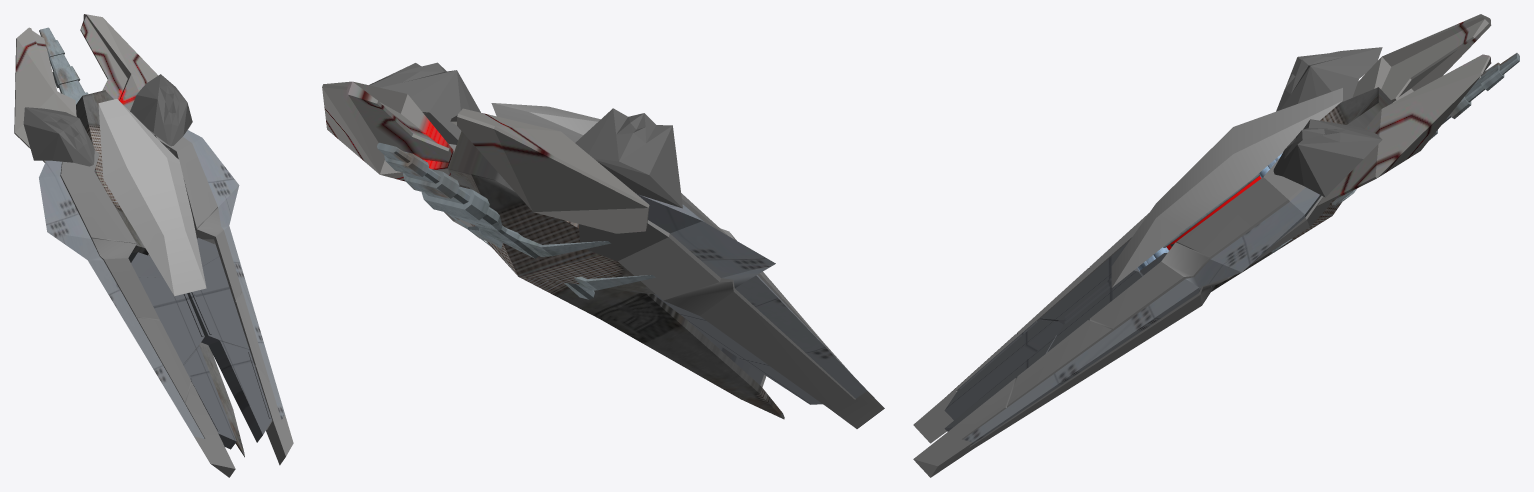
File: weakcl.fbx
3 renders of one model, left to right at view 1: azimuth 30°, elevation 25°; view 2: azimuth 150°, elevation 25°; view 3: azimuth 270°, elevation 25°, orthographic. The views are drawn at different scales.
Visible parts, largest first — view 1: polySurface3341, polySurface3333; view 2: polySurface3341, polySurface3333; view 3: polySurface3341, polySurface3333.
Part boxes in pixels (x1,y1,x2,y2): polySurface3341: [14, 14, 293, 477]; polySurface3333: [98, 99, 206, 296]; polySurface3341: [322, 62, 884, 428]; polySurface3333: [491, 103, 600, 142]; polySurface3341: [913, 14, 1519, 477]; polySurface3333: [1111, 88, 1342, 287].
Size of the model in its own units: 3.97 by 6.03 by 7.77.
